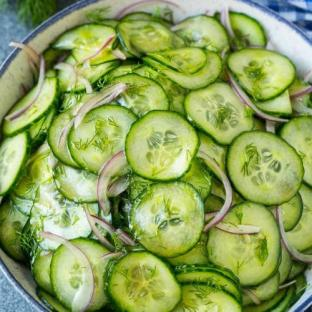Cucumber: (207, 202, 280, 287), (130, 181, 204, 257), (227, 131, 303, 205), (125, 111, 199, 180), (30, 180, 98, 250), (68, 105, 136, 174), (107, 251, 180, 311), (185, 83, 253, 144), (227, 49, 295, 101), (48, 94, 94, 167), (2, 78, 58, 136), (143, 51, 222, 89), (71, 238, 109, 310), (133, 65, 185, 115), (117, 20, 184, 57), (176, 266, 241, 302), (115, 74, 169, 117), (54, 24, 116, 61), (12, 143, 52, 200), (58, 56, 119, 92), (173, 280, 242, 311), (172, 15, 229, 52), (281, 117, 311, 187), (0, 133, 29, 195), (54, 163, 97, 202), (0, 201, 28, 260), (287, 185, 311, 251), (147, 48, 207, 74), (175, 265, 240, 288), (167, 233, 209, 265), (230, 12, 266, 48), (244, 286, 294, 311), (28, 107, 57, 149), (182, 160, 211, 200), (198, 132, 227, 170), (249, 271, 280, 301), (255, 91, 292, 116), (32, 251, 53, 295), (280, 193, 303, 231), (122, 12, 172, 27), (37, 288, 69, 311), (107, 63, 141, 81), (130, 175, 152, 200), (10, 192, 33, 215), (279, 246, 292, 285), (44, 47, 66, 69), (291, 274, 307, 304), (291, 93, 311, 115), (288, 261, 307, 280), (205, 194, 224, 212), (212, 178, 225, 200), (254, 116, 265, 131), (101, 19, 119, 28)
